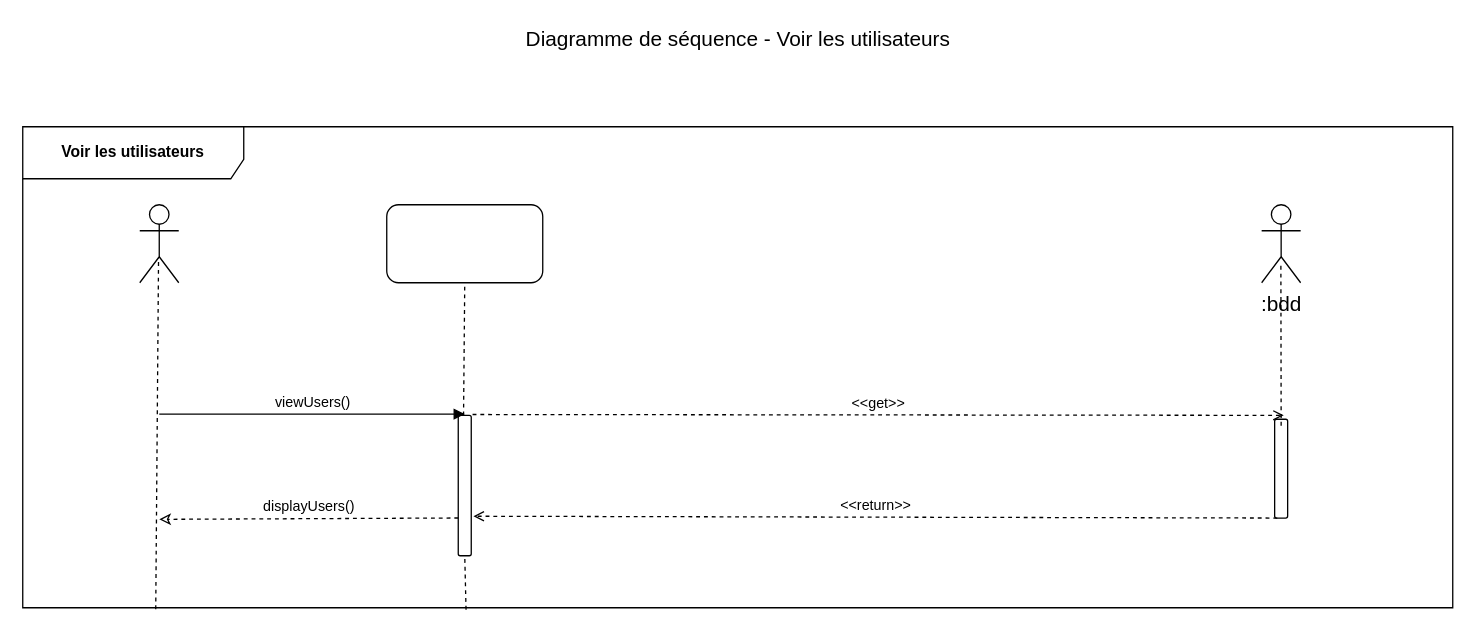
Some shapes in this 1476 by 633 pixel diagram are drawn without their labels. Here are the shapes that lost their labels. From the top down, the centre of each, then its label:
At point (158, 243): ":utilisateur".
At point (464, 243): ":system".
